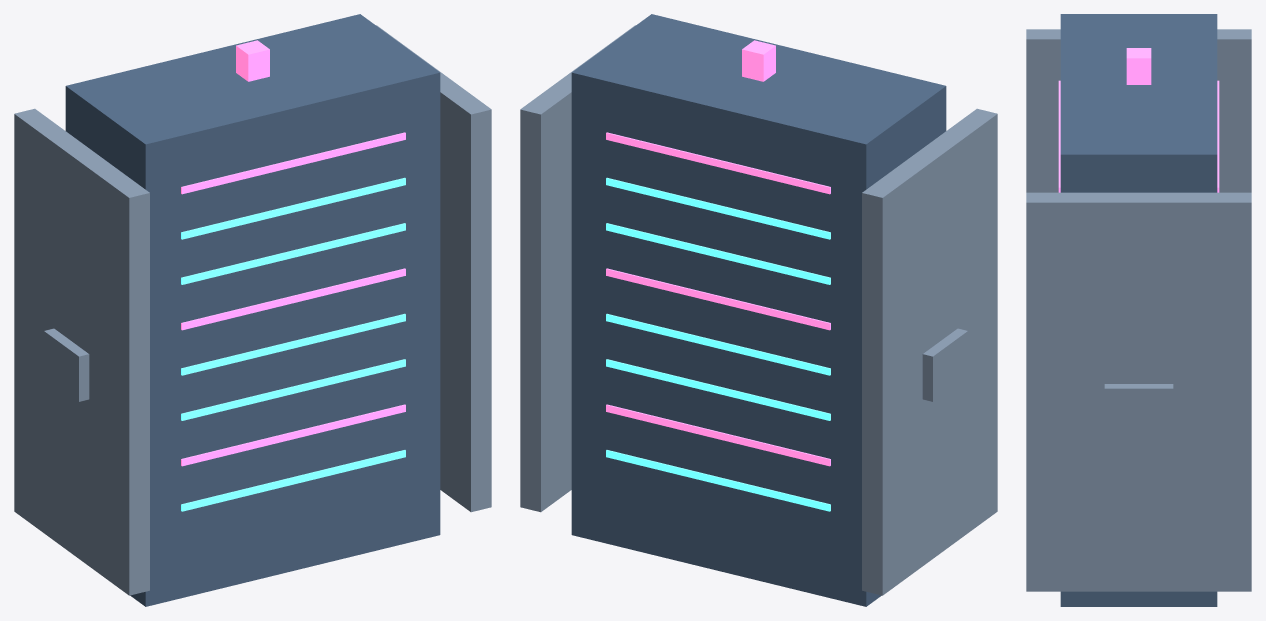
File: 01_arcology.glb
3 views of the same model, side by side, from view 1: azimuth 30°, elevation 25°; view 2: azimuth 150°, elevation 25°; view 3: azimuth 270°, elevation 25° (orthographic). The views are drawn at different scales.
Parts seen in each view (by area): view 1: skyline_arcology_structure, skyline_arcology_arc_-1, skyline_arcology_arc_1, skyline_arcology_skybridge, skyline_arcology_window_5_-1_nocol, skyline_arcology_window_8_-1_nocol, skyline_arcology_window_2_-1_nocol, skyline_arcology_window_3_-1_nocol, skyline_arcology_window_7_-1_nocol, skyline_arcology_window_9_-1_nocol, skyline_arcology_window_4_-1_nocol, skyline_arcology_window_6_-1_nocol (+1 smaller); view 2: skyline_arcology_structure, skyline_arcology_arc_-1, skyline_arcology_arc_1, skyline_arcology_skybridge, skyline_arcology_window_5_1_nocol, skyline_arcology_window_8_1_nocol, skyline_arcology_window_2_1_nocol, skyline_arcology_window_3_1_nocol, skyline_arcology_window_7_1_nocol, skyline_arcology_window_9_1_nocol, skyline_arcology_window_4_1_nocol, skyline_arcology_window_6_1_nocol (+1 smaller); view 3: skyline_arcology_arc_1, skyline_arcology_structure, skyline_arcology_arc_-1, skyline_arcology_skybridge, skyline_arcology_roof_signal, skyline_arcology_window_9_-1_nocol, skyline_arcology_window_9_1_nocol.
Boxes of the visible parts, bbox=[...] form: skyline_arcology_structure: bbox=[65, 14, 440, 606]; skyline_arcology_arc_-1: bbox=[14, 108, 149, 595]; skyline_arcology_arc_1: bbox=[376, 25, 491, 512]; skyline_arcology_skybridge: bbox=[44, 328, 89, 401]; skyline_arcology_window_5_-1_nocol: bbox=[181, 313, 405, 375]; skyline_arcology_window_8_-1_nocol: bbox=[181, 177, 405, 239]; skyline_arcology_window_2_-1_nocol: bbox=[181, 450, 405, 511]; skyline_arcology_window_3_-1_nocol: bbox=[181, 404, 405, 466]; skyline_arcology_window_7_-1_nocol: bbox=[181, 223, 405, 284]; skyline_arcology_window_9_-1_nocol: bbox=[181, 132, 405, 194]; skyline_arcology_window_4_-1_nocol: bbox=[181, 359, 405, 420]; skyline_arcology_window_6_-1_nocol: bbox=[181, 268, 405, 330]; skyline_arcology_structure: bbox=[571, 14, 946, 606]; skyline_arcology_arc_-1: bbox=[862, 108, 997, 595]; skyline_arcology_arc_1: bbox=[520, 25, 635, 512]; skyline_arcology_skybridge: bbox=[922, 328, 967, 401]; skyline_arcology_window_5_1_nocol: bbox=[606, 313, 830, 375]; skyline_arcology_window_8_1_nocol: bbox=[606, 177, 830, 239]; skyline_arcology_window_2_1_nocol: bbox=[606, 450, 830, 511]; skyline_arcology_window_3_1_nocol: bbox=[606, 404, 830, 466]; skyline_arcology_window_7_1_nocol: bbox=[606, 223, 830, 284]; skyline_arcology_window_9_1_nocol: bbox=[606, 132, 830, 194]; skyline_arcology_window_4_1_nocol: bbox=[606, 359, 830, 420]; skyline_arcology_window_6_1_nocol: bbox=[606, 268, 830, 330]; skyline_arcology_arc_1: bbox=[1026, 192, 1251, 591]; skyline_arcology_structure: bbox=[1060, 14, 1217, 606]; skyline_arcology_arc_-1: bbox=[1026, 29, 1251, 192]; skyline_arcology_skybridge: bbox=[1104, 384, 1173, 432]; skyline_arcology_roof_signal: bbox=[1126, 48, 1151, 84]; skyline_arcology_window_9_-1_nocol: bbox=[1058, 80, 1060, 192]; skyline_arcology_window_9_1_nocol: bbox=[1217, 80, 1219, 192].
Bounding box in the file's own units: 44.2 × 54.5 × 23.
